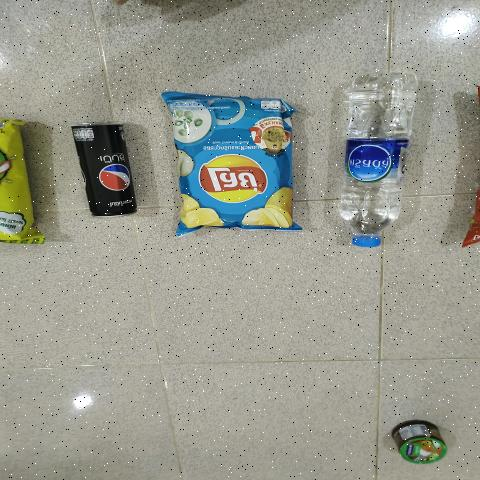crystal: (351, 72, 394, 248)
lay_blue: (180, 101, 282, 221)
pepsi_black: (88, 124, 126, 215)
